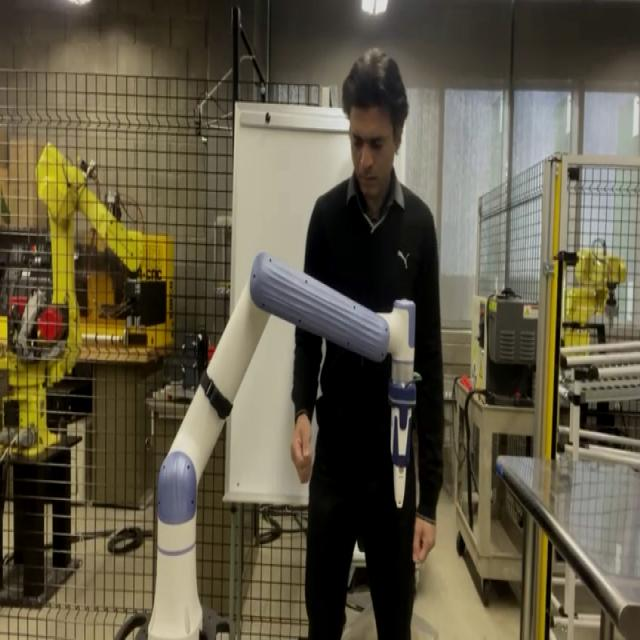robot: (113, 250, 422, 638)
